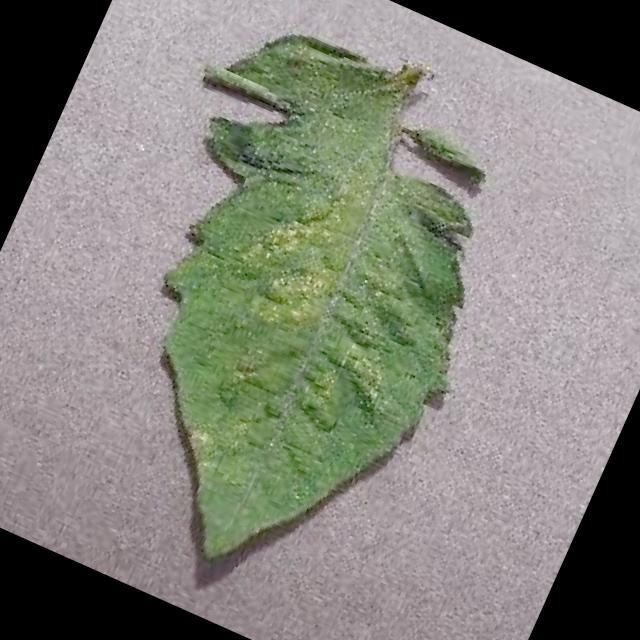Tomato spider mites leaf: (21, 0, 555, 621)
